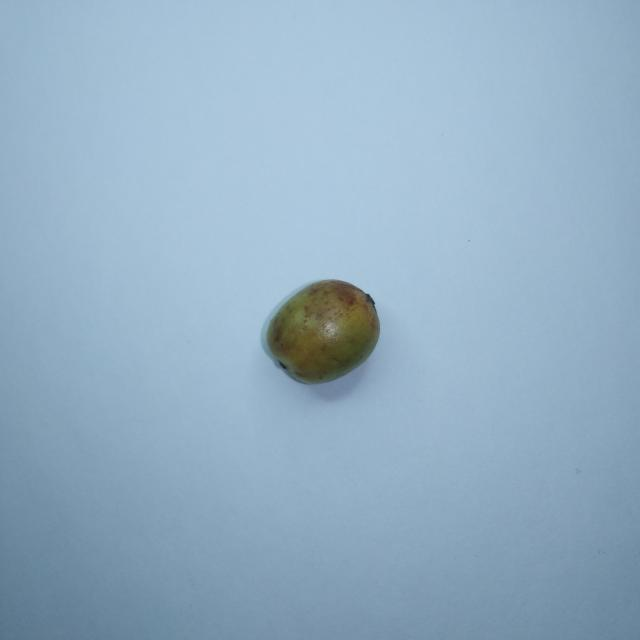Sano: (264, 279, 379, 383)
